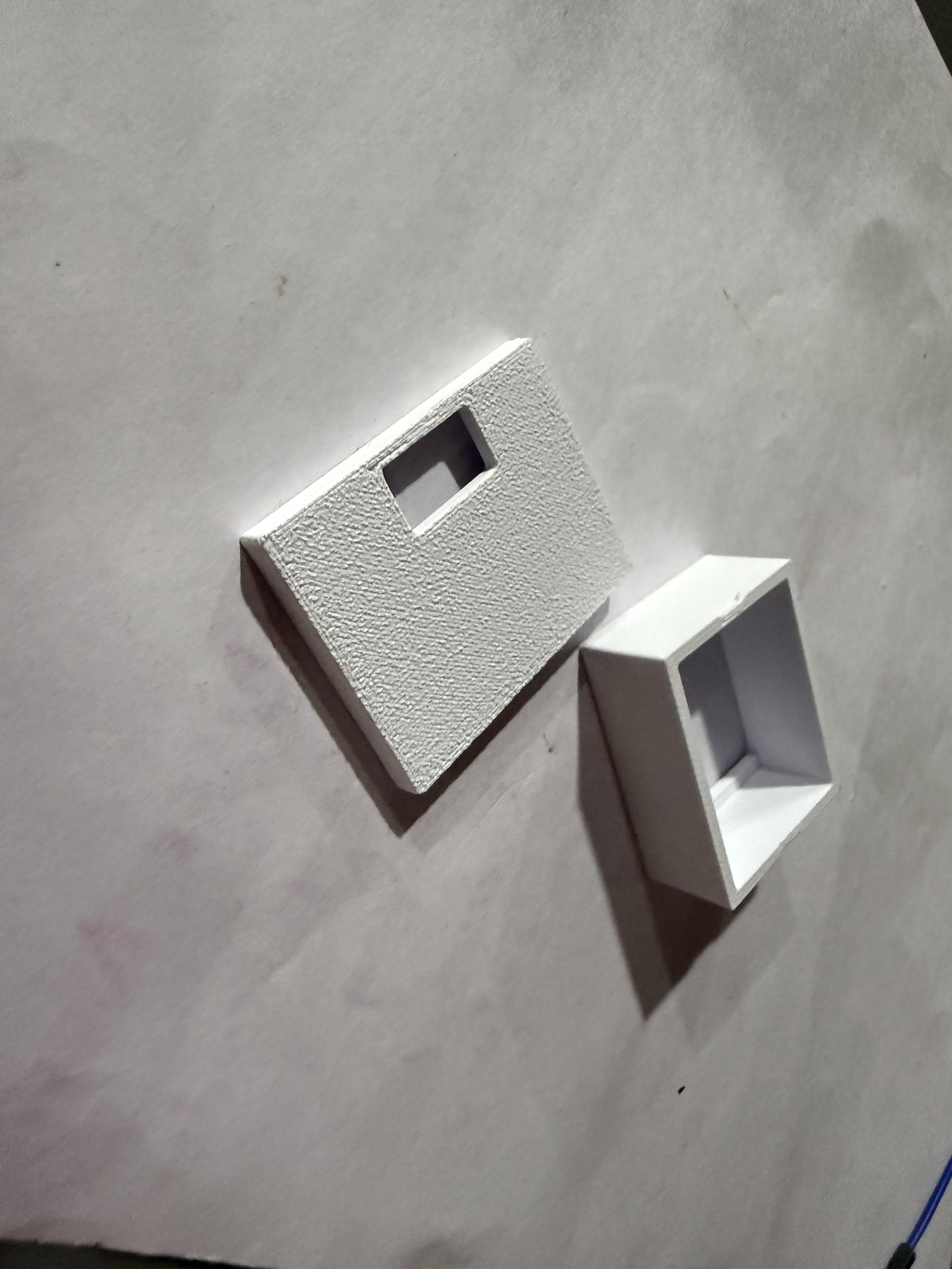enclosure: (239, 338, 632, 796), (579, 553, 840, 912)
